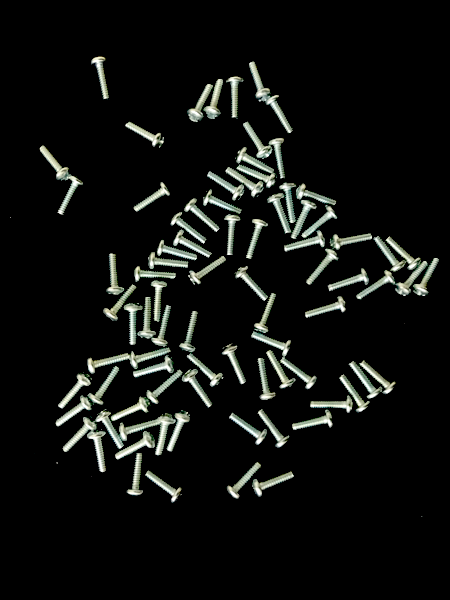shortscrew: (62, 415, 100, 454), (54, 394, 98, 427), (226, 461, 263, 499), (229, 412, 269, 447), (360, 360, 398, 396), (145, 369, 183, 405), (145, 470, 184, 505), (350, 361, 384, 400), (58, 371, 92, 410), (103, 284, 137, 323), (258, 409, 291, 449), (183, 198, 220, 233), (186, 354, 224, 388), (306, 248, 339, 287), (339, 375, 372, 414), (225, 167, 266, 198), (233, 266, 269, 301), (302, 205, 339, 239), (373, 236, 407, 273), (386, 237, 423, 271), (243, 121, 275, 160), (133, 182, 173, 213), (266, 350, 297, 390), (251, 471, 295, 499), (116, 431, 157, 461), (281, 357, 318, 390), (170, 212, 207, 245), (188, 255, 226, 287), (264, 95, 294, 135), (40, 145, 72, 182), (183, 370, 214, 408), (221, 342, 249, 384), (357, 270, 397, 299), (396, 260, 427, 297), (58, 175, 85, 217), (123, 122, 165, 149), (186, 83, 214, 123), (172, 230, 212, 258), (328, 266, 371, 292), (167, 410, 193, 453), (234, 146, 275, 173), (207, 172, 245, 201), (290, 200, 317, 240), (133, 354, 176, 379), (238, 165, 279, 191), (414, 258, 441, 297), (248, 61, 273, 103), (118, 418, 160, 443), (111, 397, 151, 423), (126, 453, 149, 498), (305, 296, 348, 320), (253, 293, 278, 334), (251, 332, 292, 357), (296, 183, 338, 207), (91, 55, 113, 100), (179, 310, 201, 355), (86, 352, 129, 375), (151, 305, 174, 348), (284, 230, 326, 253), (267, 193, 290, 235), (268, 137, 290, 180), (292, 410, 335, 432), (154, 413, 176, 456), (156, 239, 198, 261), (203, 190, 243, 213), (256, 358, 277, 401), (246, 218, 268, 259), (130, 347, 171, 369), (88, 429, 108, 474), (203, 79, 225, 119), (330, 232, 373, 252), (311, 395, 354, 415), (138, 296, 158, 339), (124, 302, 143, 346), (225, 76, 244, 119), (224, 214, 243, 257), (150, 280, 169, 323), (277, 182, 296, 224), (105, 254, 124, 296), (148, 252, 189, 270), (133, 268, 176, 283)
